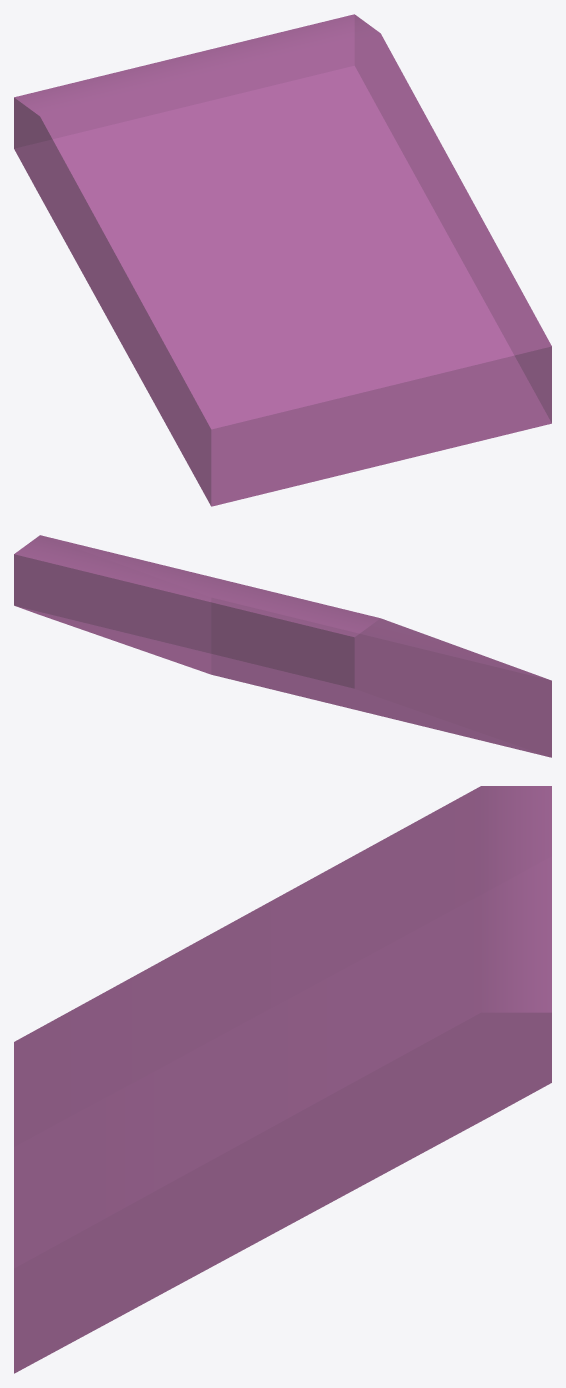
Rendered from SM_Bld_Base_Stairs_01_Collision.fbx.
The picture shows the model from 3 angles, top to bottom: view 1: azimuth 30°, elevation 25°; view 2: azimuth 150°, elevation 25°; view 3: azimuth 270°, elevation 25°; orthographic projection. The views are drawn at different scales.
Parts seen in each view (by area): view 1: SM_Bld_Base_Stairs_01_Collision; view 2: SM_Bld_Base_Stairs_01_Collision; view 3: SM_Bld_Base_Stairs_01_Collision.
Part boxes in pixels (x1,y1,x2,y2): SM_Bld_Base_Stairs_01_Collision: (14,14,551,506); SM_Bld_Base_Stairs_01_Collision: (14,535,551,757); SM_Bld_Base_Stairs_01_Collision: (14,786,551,1373).
Bounding box in the file's own units: 253 × 188 × 254.
